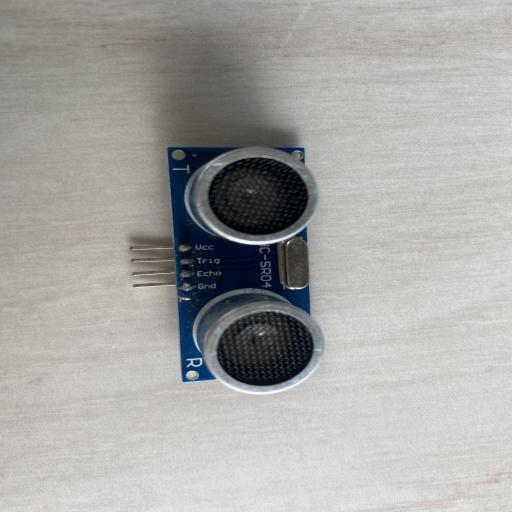Ultrasonic Sensor: (130, 145, 326, 397)
